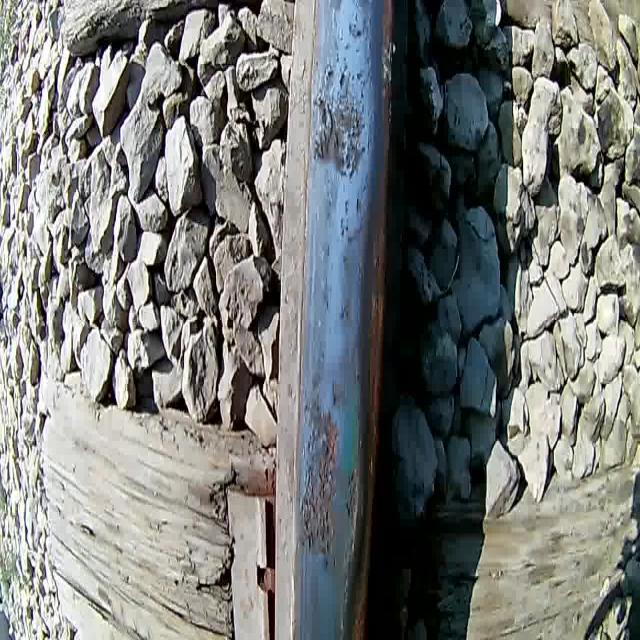Cracks: (316, 94, 341, 167)
Spallings: (297, 413, 341, 577), (309, 55, 369, 174), (345, 470, 359, 526)
Squats: (290, 361, 370, 595), (307, 46, 371, 185), (311, 188, 368, 332), (341, 4, 377, 43)
